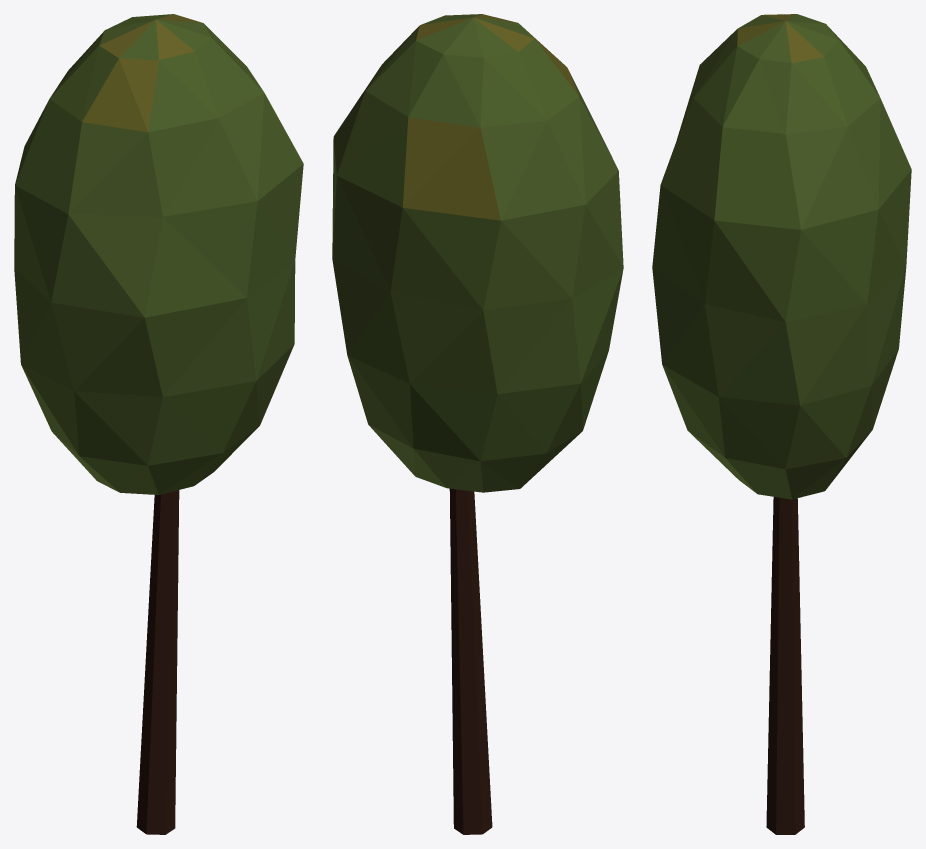
Rendered from Tree_Sapling_02.fbx.
3 renders of one model, left to right at view 1: azimuth 30°, elevation 25°; view 2: azimuth 150°, elevation 25°; view 3: azimuth 270°, elevation 25°, orthographic.
Parts seen in each view (by area): view 1: Tree_Sapling_02_Foliage, Tree_Sapling_02_Trunk; view 2: Tree_Sapling_02_Foliage, Tree_Sapling_02_Trunk; view 3: Tree_Sapling_02_Foliage, Tree_Sapling_02_Trunk.
Part boxes in pixels (left/top/right/bottom): Tree_Sapling_02_Foliage: left=14, top=14, right=303, bottom=494; Tree_Sapling_02_Trunk: left=136, top=490, right=179, bottom=834; Tree_Sapling_02_Foliage: left=332, top=14, right=623, bottom=492; Tree_Sapling_02_Trunk: left=449, top=488, right=492, bottom=834; Tree_Sapling_02_Foliage: left=652, top=14, right=911, bottom=499; Tree_Sapling_02_Trunk: left=766, top=497, right=804, bottom=834.
Size of the model in its own units: 1.27 by 3.71 by 1.08.
1 material, 1 textured.
